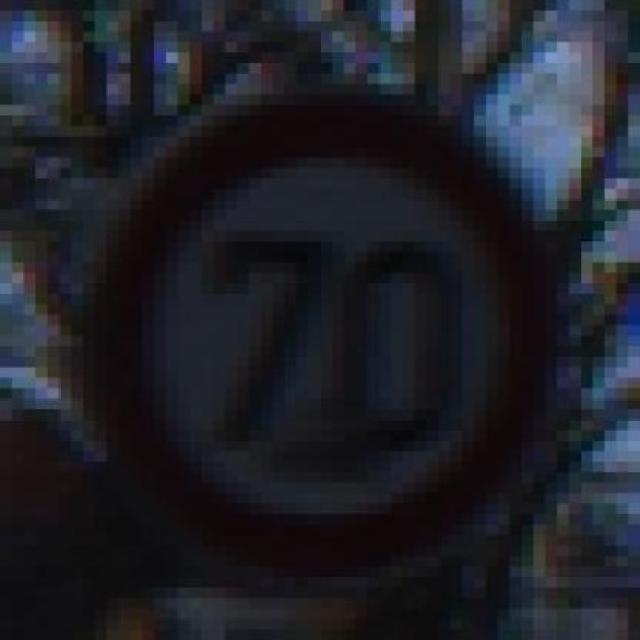forb_speed_over_70: (100, 93, 551, 579)
